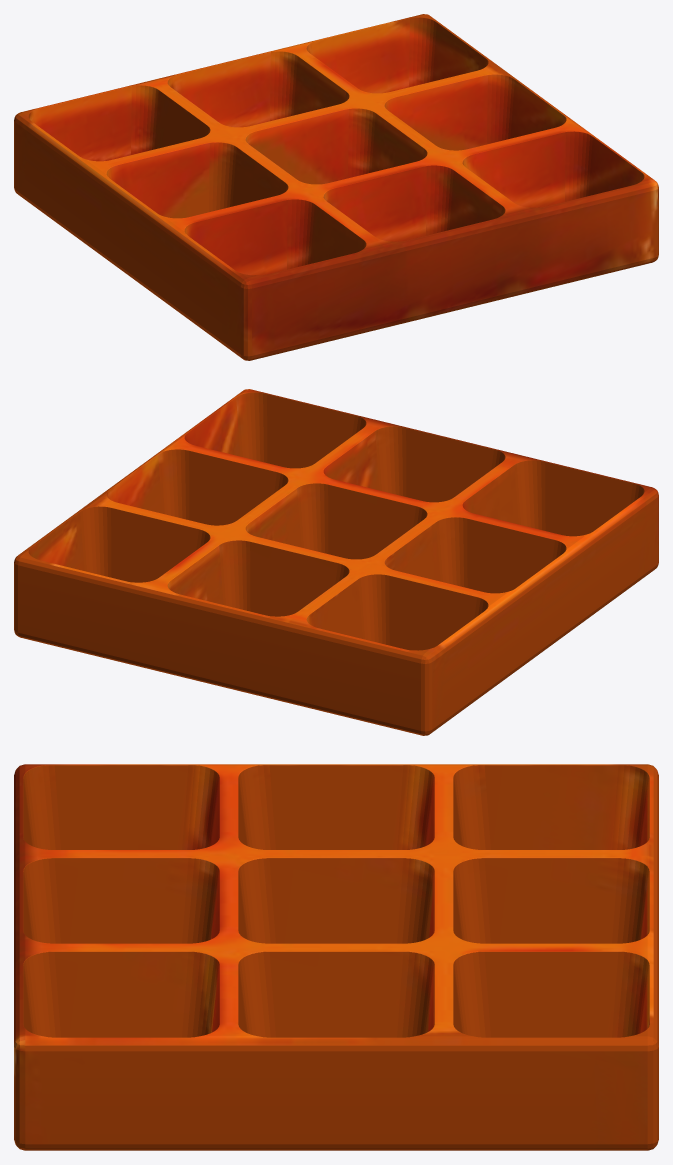
The picture shows the model from 3 angles, top to bottom: view 1: azimuth 30°, elevation 25°; view 2: azimuth 150°, elevation 25°; view 3: azimuth 270°, elevation 25°; orthographic projection. The views are drawn at different scales.
Visible parts, largest first — view 1: molded tray with rounded wells; view 2: molded tray with rounded wells; view 3: molded tray with rounded wells.
Part boxes in pixels (x1,y1,x2,y2): molded tray with rounded wells: (14, 14, 658, 360); molded tray with rounded wells: (14, 389, 658, 735); molded tray with rounded wells: (14, 764, 658, 1150).
Bounding box in the file's own units: 0.165 × 0.0311 × 0.1602.
1 material, 1 textured.
